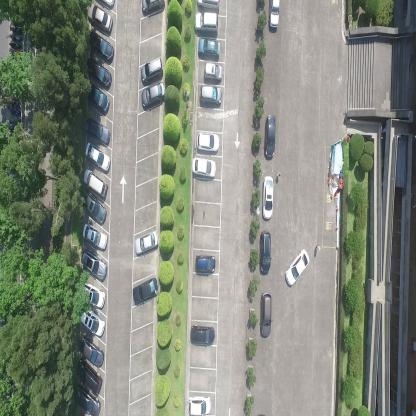car: (284, 247, 310, 288), (76, 359, 103, 396), (80, 189, 107, 225), (80, 247, 107, 282), (78, 333, 105, 367), (79, 305, 106, 339), (83, 141, 111, 171), (86, 31, 114, 61), (74, 383, 100, 415), (87, 2, 113, 34), (132, 277, 159, 307), (85, 57, 112, 87), (82, 167, 107, 199), (84, 116, 110, 146), (81, 222, 107, 251), (86, 82, 110, 113), (81, 278, 105, 308), (133, 229, 159, 256), (141, 81, 164, 111), (258, 229, 272, 276), (140, 56, 164, 82), (263, 114, 276, 160), (189, 323, 215, 346), (261, 173, 273, 220), (192, 156, 216, 179), (194, 11, 218, 34), (196, 37, 221, 59), (260, 290, 271, 338), (187, 394, 211, 416), (196, 130, 220, 152), (199, 84, 222, 106), (194, 253, 216, 274), (203, 62, 223, 81), (141, 0, 164, 16), (268, 0, 280, 30), (197, 0, 219, 12)
